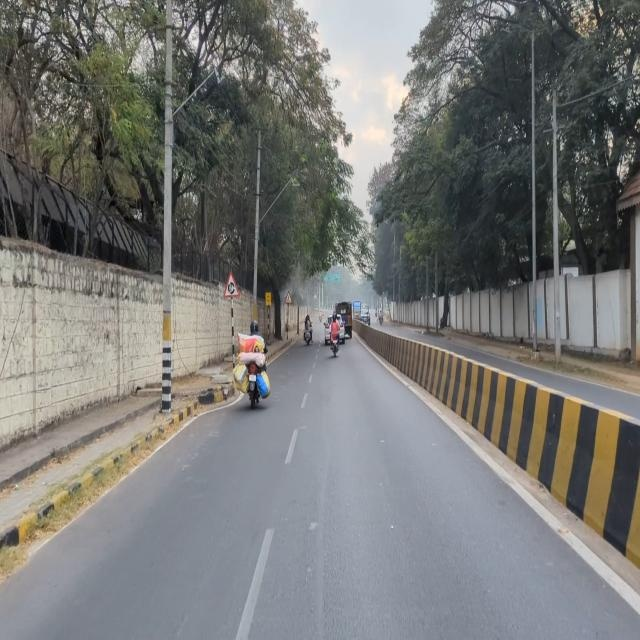bien_nguy_hiem: (222, 268, 241, 298), (285, 290, 292, 305)
